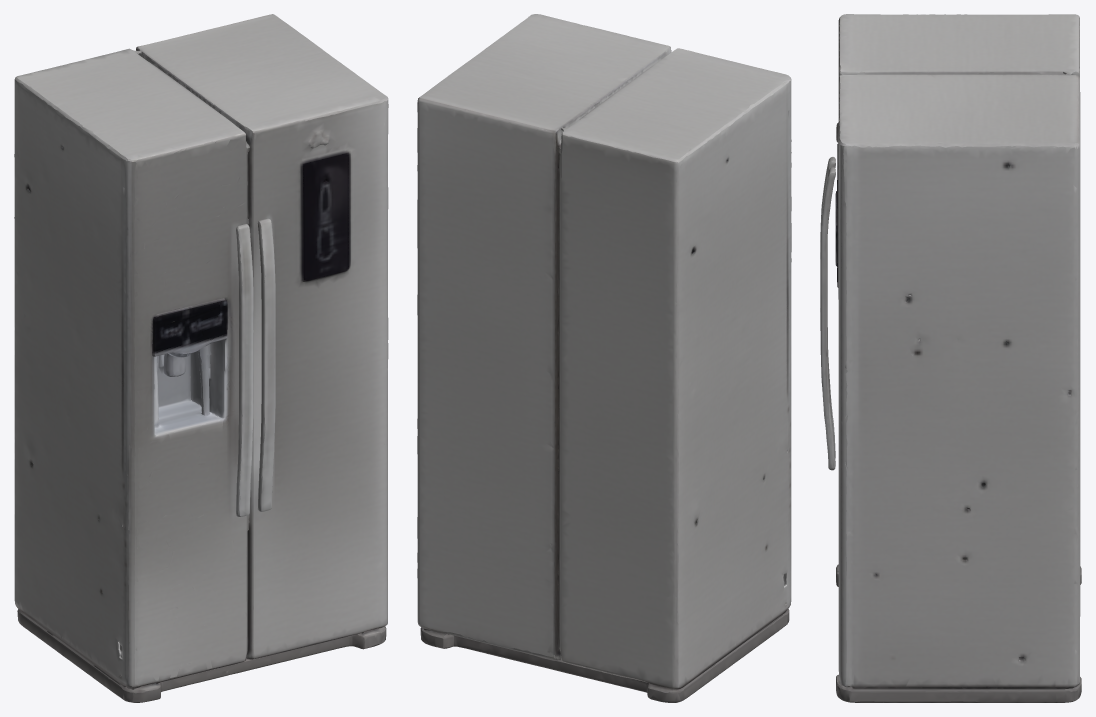
File: item_dd208187.glb
The picture shows the model from 3 angles, left to right: view 1: azimuth 30°, elevation 25°; view 2: azimuth 150°, elevation 25°; view 3: azimuth 270°, elevation 25°; orthographic projection. The views are drawn at different scales.
Parts seen in each view (by area): view 1: world; view 2: world; view 3: world.
Part boxes in pixels (<box>): world: <box>14,14,388,702</box>; world: <box>417,14,791,702</box>; world: <box>820,14,1081,702</box>.
Size of the model in its own units: 1.78 by 3.53 by 1.49.
Materials: 1 (1 with a texture image).
